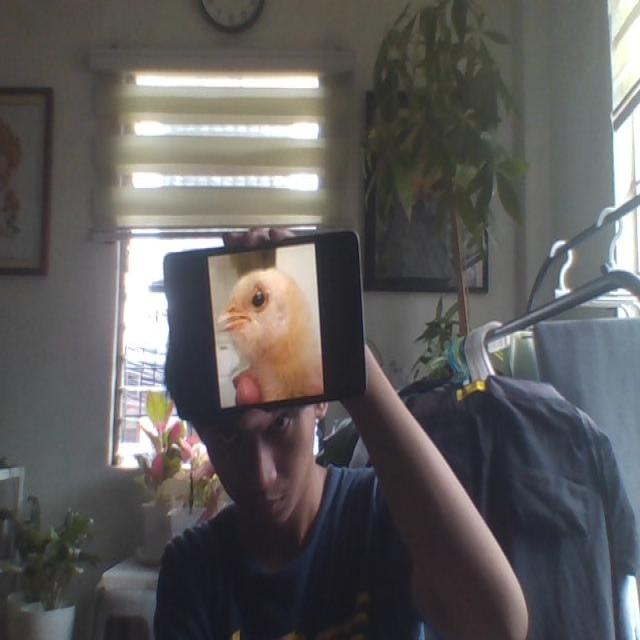Sick: (222, 267, 326, 402)
